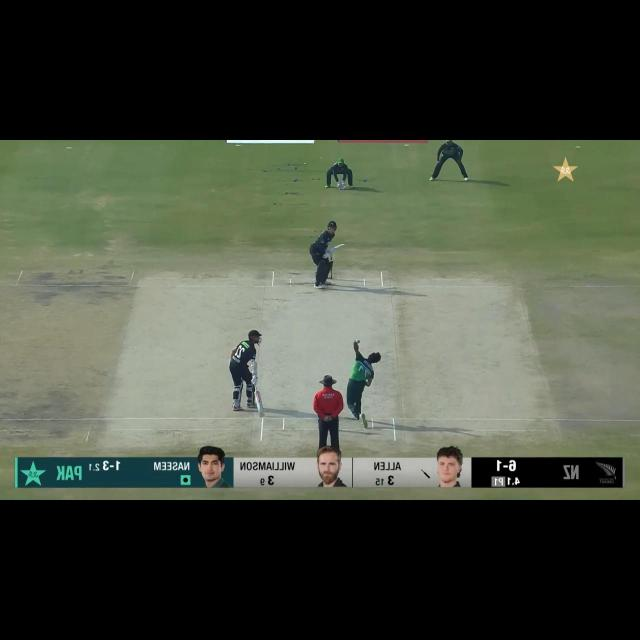bat: (253, 392, 265, 418), (331, 242, 346, 253)
toe: (258, 414, 264, 417), (341, 242, 345, 246)
